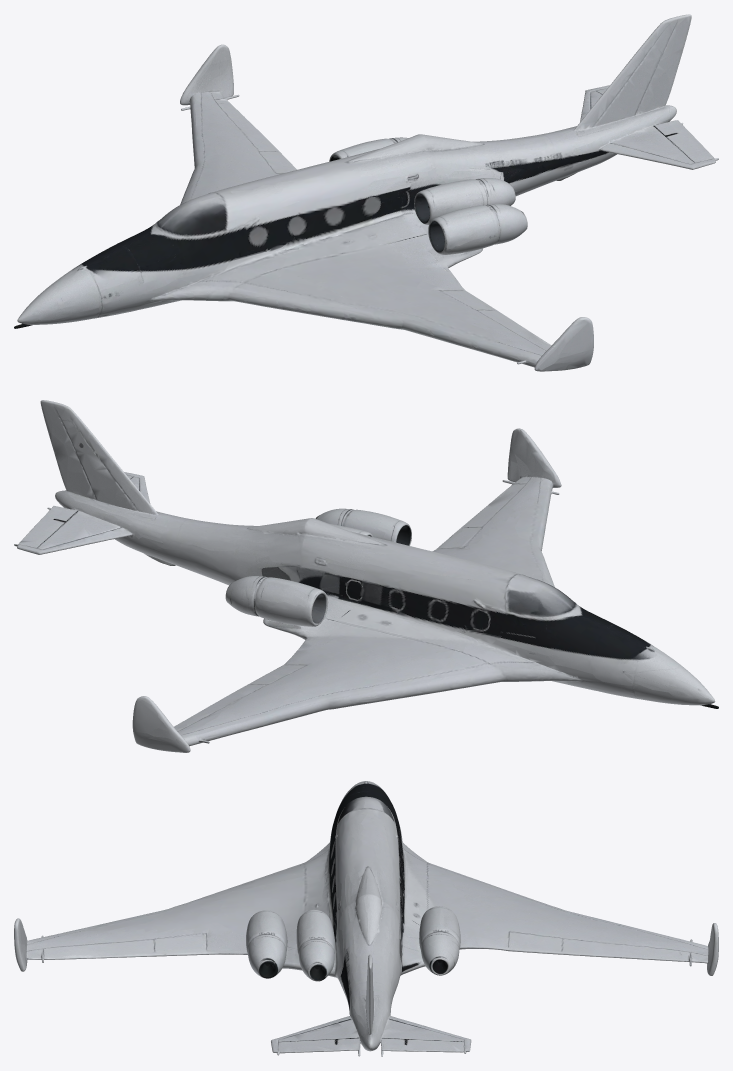
3 views of the same model, one above another, from view 1: azimuth 30°, elevation 25°; view 2: azimuth 150°, elevation 25°; view 3: azimuth 270°, elevation 25° (orthographic). The views are drawn at different scales.
Bounding box in the file's own units: 1.9 × 0.4171 × 1.81.
Materials: 1 (1 with a texture image).
